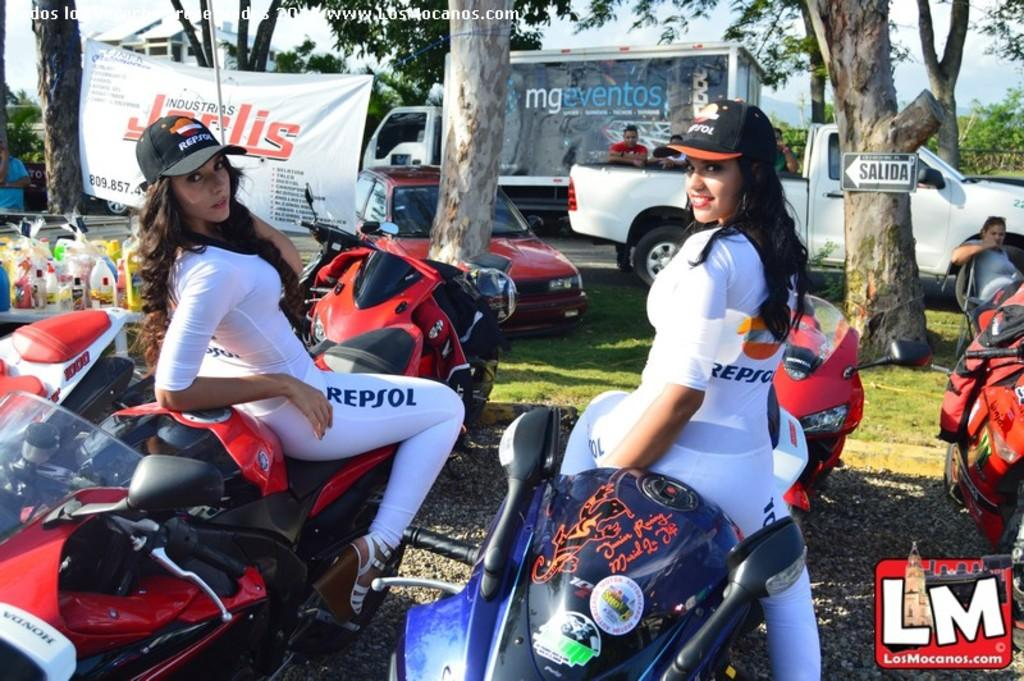Hat: (135, 116, 246, 183), (665, 101, 780, 161)
